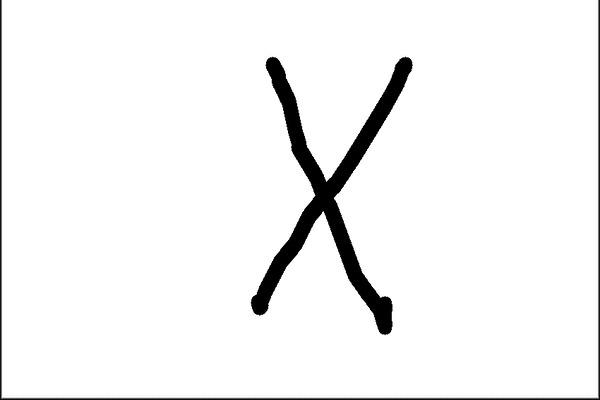X: (223, 32, 447, 359)
